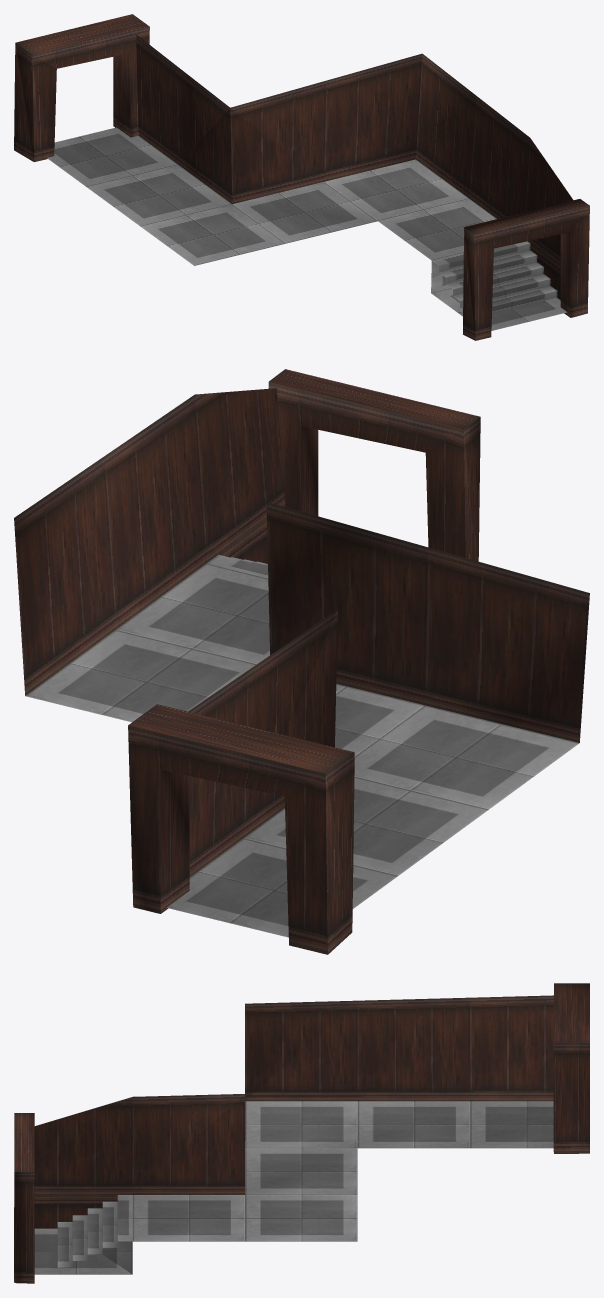
The model's file is hall_0.glb.
3 renders of one model, top to bottom at view 1: azimuth 30°, elevation 25°; view 2: azimuth 150°, elevation 25°; view 3: azimuth 270°, elevation 25°, orthographic. The views are drawn at different scales.
Visible parts, largest first — view 1: wall, floor, DoorFrame_Connector2, DoorFrame_Connector1, stair; view 2: wall, floor, DoorFrame_Connector2, DoorFrame_Connector1, stair; view 3: wall, floor, DoorFrame_Connector2, stair, DoorFrame_Connector1.
Part boxes in pixels (bbox=[...]): wall: bbox=[136, 34, 573, 299]; floor: bbox=[47, 127, 567, 330]; DoorFrame_Connector2: bbox=[14, 14, 149, 161]; DoorFrame_Connector1: bbox=[463, 199, 589, 340]; stair: bbox=[432, 241, 557, 313]; wall: bbox=[14, 388, 589, 877]; floor: bbox=[25, 563, 579, 937]; DoorFrame_Connector2: bbox=[128, 704, 354, 954]; DoorFrame_Connector1: bbox=[268, 369, 480, 561]; stair: bbox=[207, 554, 268, 578]; wall: bbox=[34, 995, 553, 1228]; floor: bbox=[34, 1101, 553, 1274]; DoorFrame_Connector2: bbox=[553, 983, 589, 1153]; stair: bbox=[57, 1195, 132, 1267]; DoorFrame_Connector1: bbox=[14, 1113, 34, 1283].
Size of the model in its own units: 48.38 by 21.84 by 76.77.
4 materials, 4 textured.
